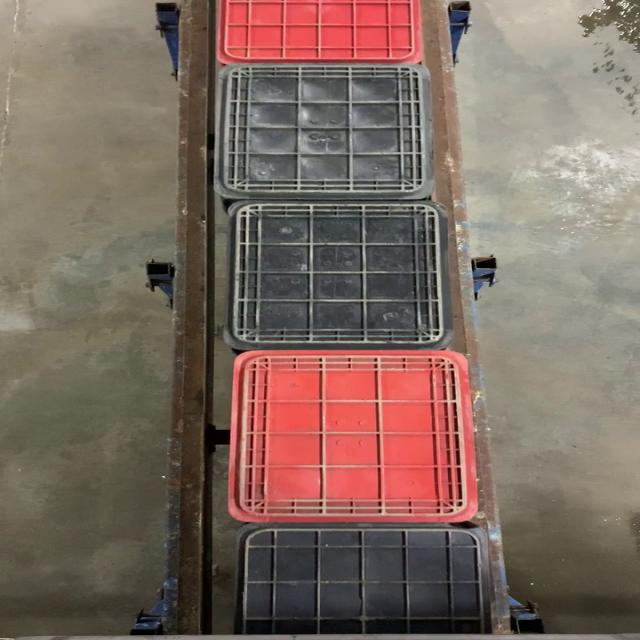Box: (230, 351, 478, 525), (225, 199, 452, 352), (222, 64, 436, 198)
